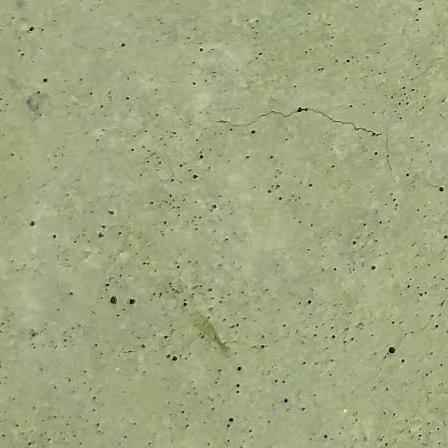crack: (204, 81, 416, 186)
